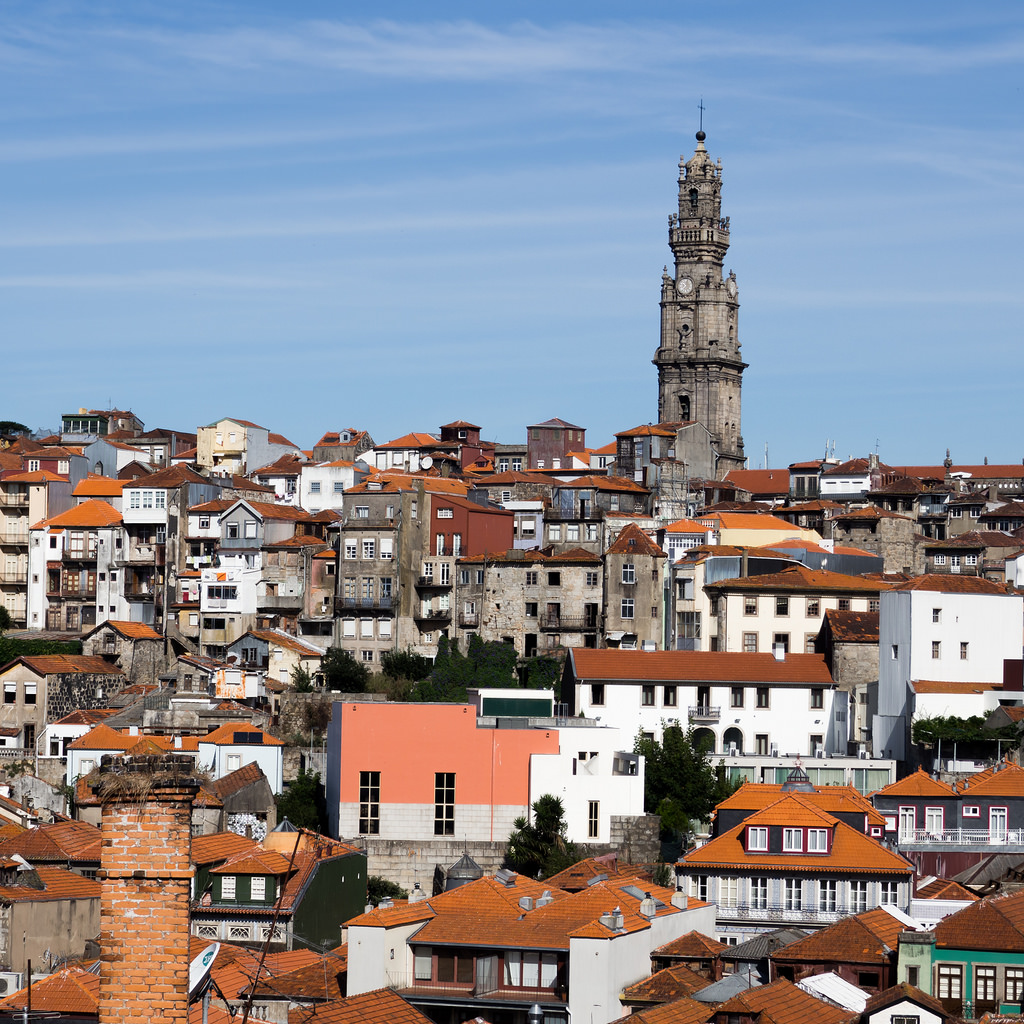clerigos: (647, 102, 750, 471)
